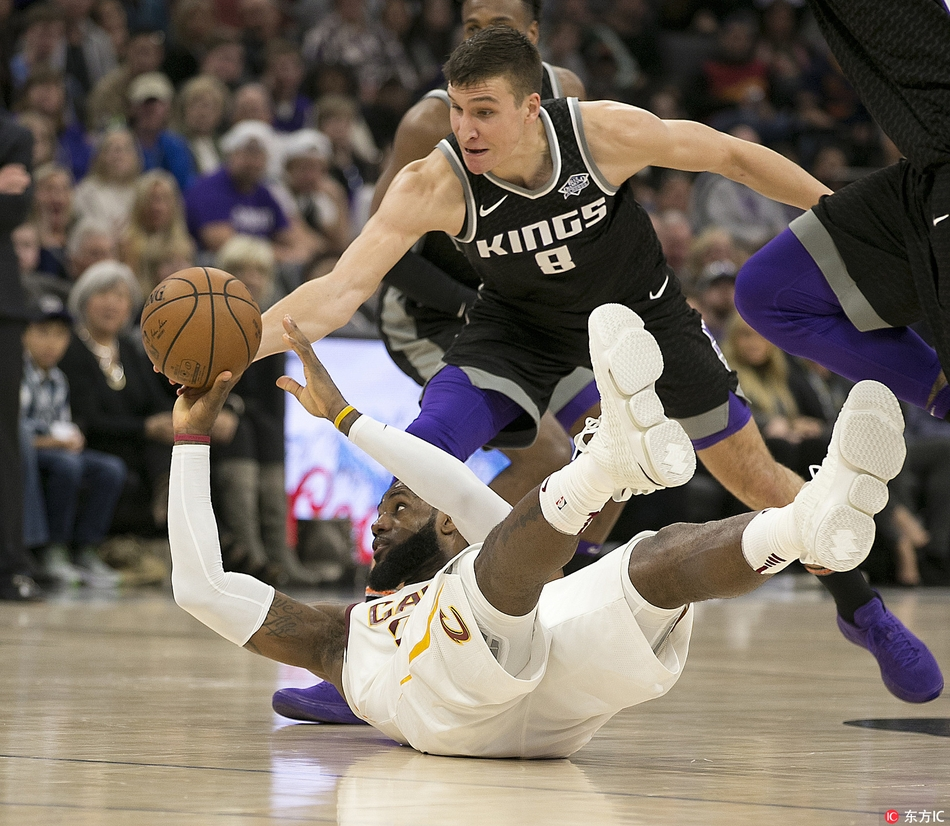10+: (1, 1, 947, 760)
down: (146, 327, 910, 760)
